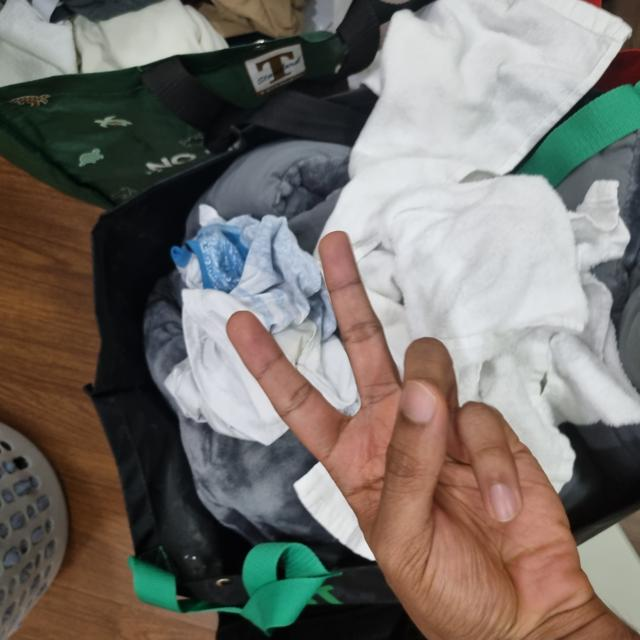Scissors: (0, 227, 411, 608)
